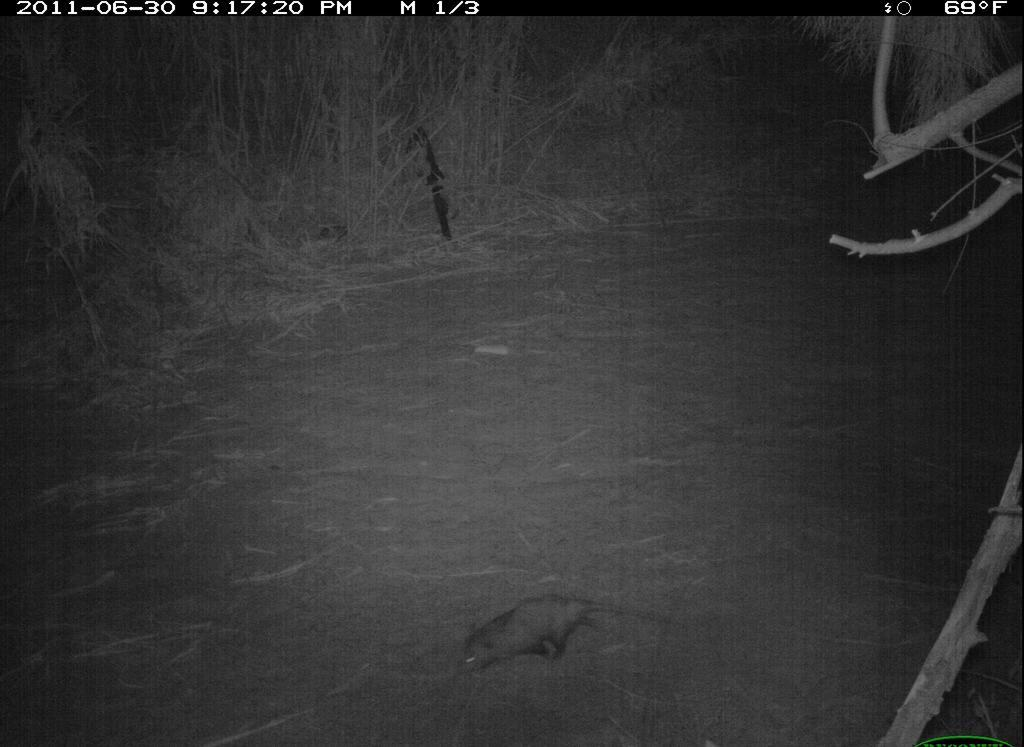opossum: (441, 582, 642, 683)
